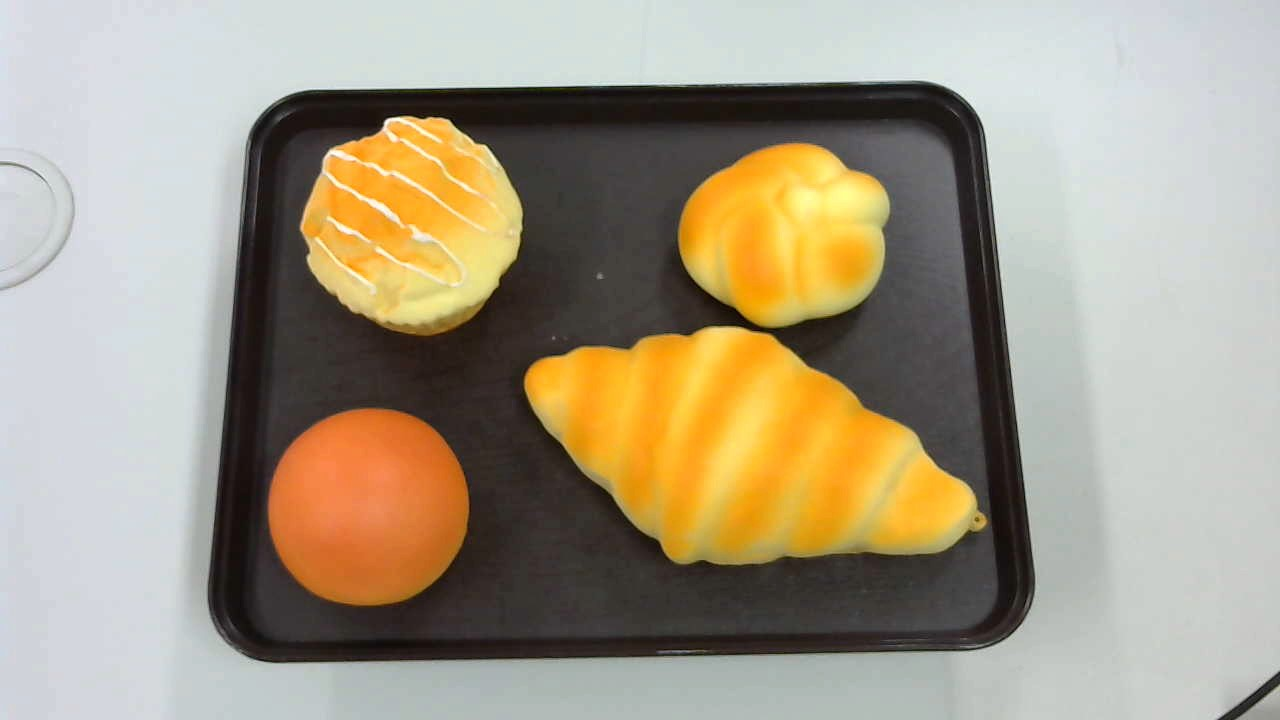bun: (267, 405, 471, 605)
croissant: (521, 326, 988, 566)
cupcake: (298, 115, 524, 335)
twist bread: (679, 144, 889, 326)
